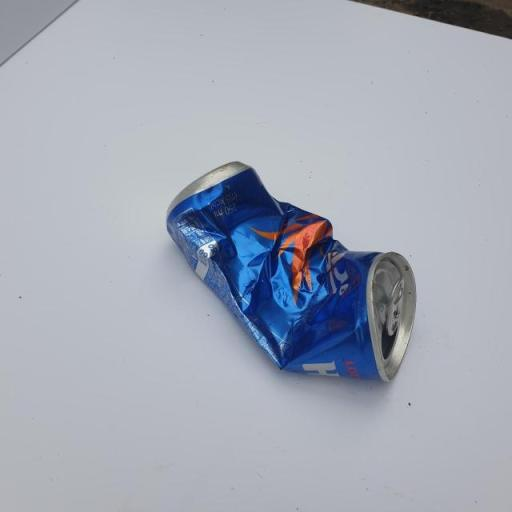metal: (136, 144, 448, 408)
